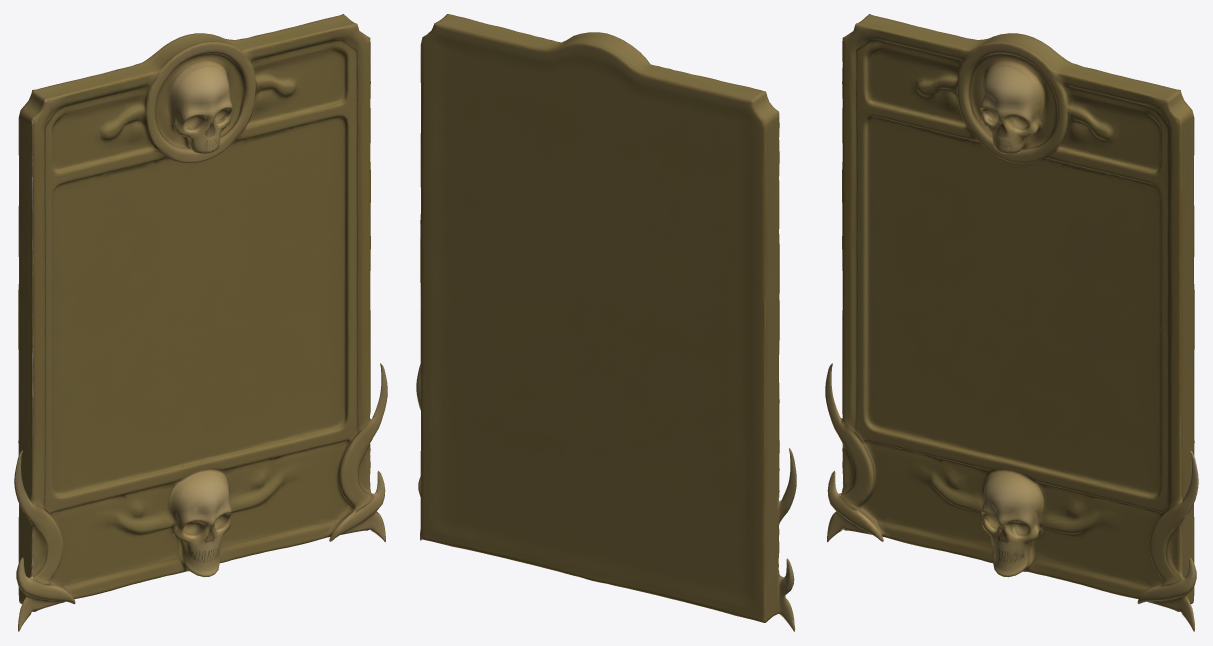
File: base_basic_pbr.fbx
3 renders of one model, left to right at view 1: azimuth 30°, elevation 25°; view 2: azimuth 150°, elevation 25°; view 3: azimuth 330°, elevation 25°, orthographic.
Visible parts, largest first — view 1: model; view 2: model; view 3: model.
Boxes of the visible parts, x1,y1,x2,y2 form: model: [14, 14, 387, 631]; model: [416, 14, 796, 631]; model: [825, 14, 1198, 631].
Bounding box in the file's own units: 136 × 190 × 16.47.
Materials: 1 (1 with a texture image).
